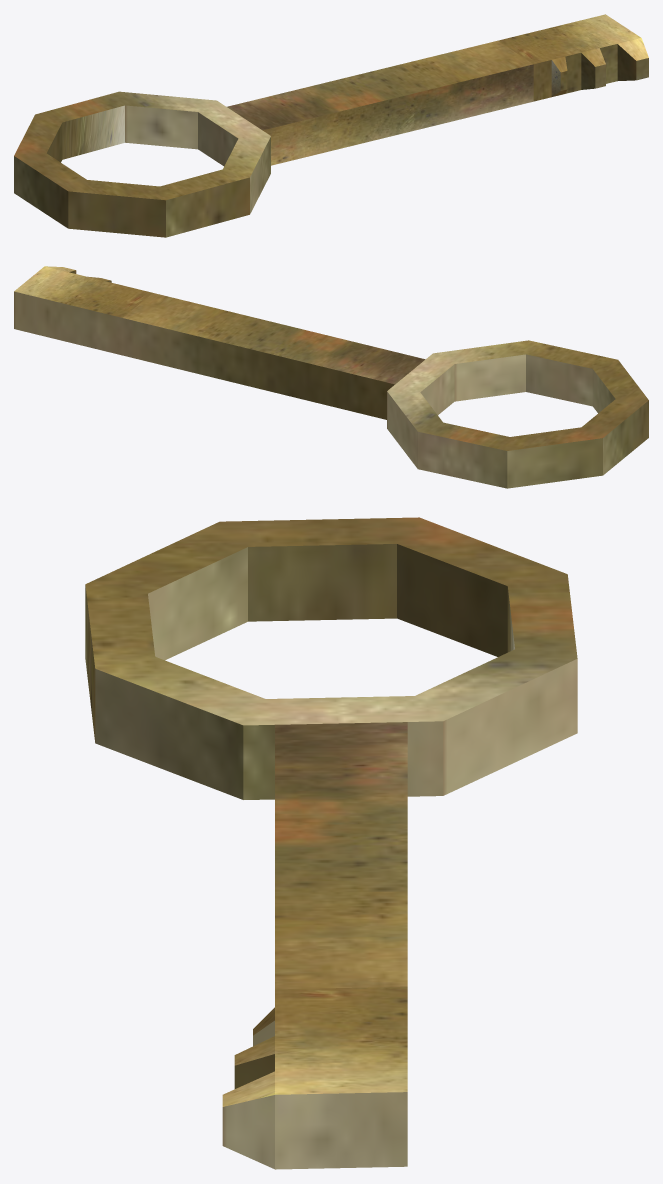
Rendered from key2.gltf.
3 views of the same model, one above another, from view 1: azimuth 30°, elevation 25°; view 2: azimuth 150°, elevation 25°; view 3: azimuth 270°, elevation 25° (orthographic). The views are drawn at different scales.
Parts seen in each view (by area): view 1: key; view 2: key; view 3: key.
Boxes of the visible parts, x1,y1,x2,y2 form: key: (14, 14, 648, 237); key: (14, 266, 648, 488); key: (85, 517, 577, 1169).
Bounding box in the file's own units: 1.11 × 0.0667 × 0.3982.
1 material, 1 textured.
